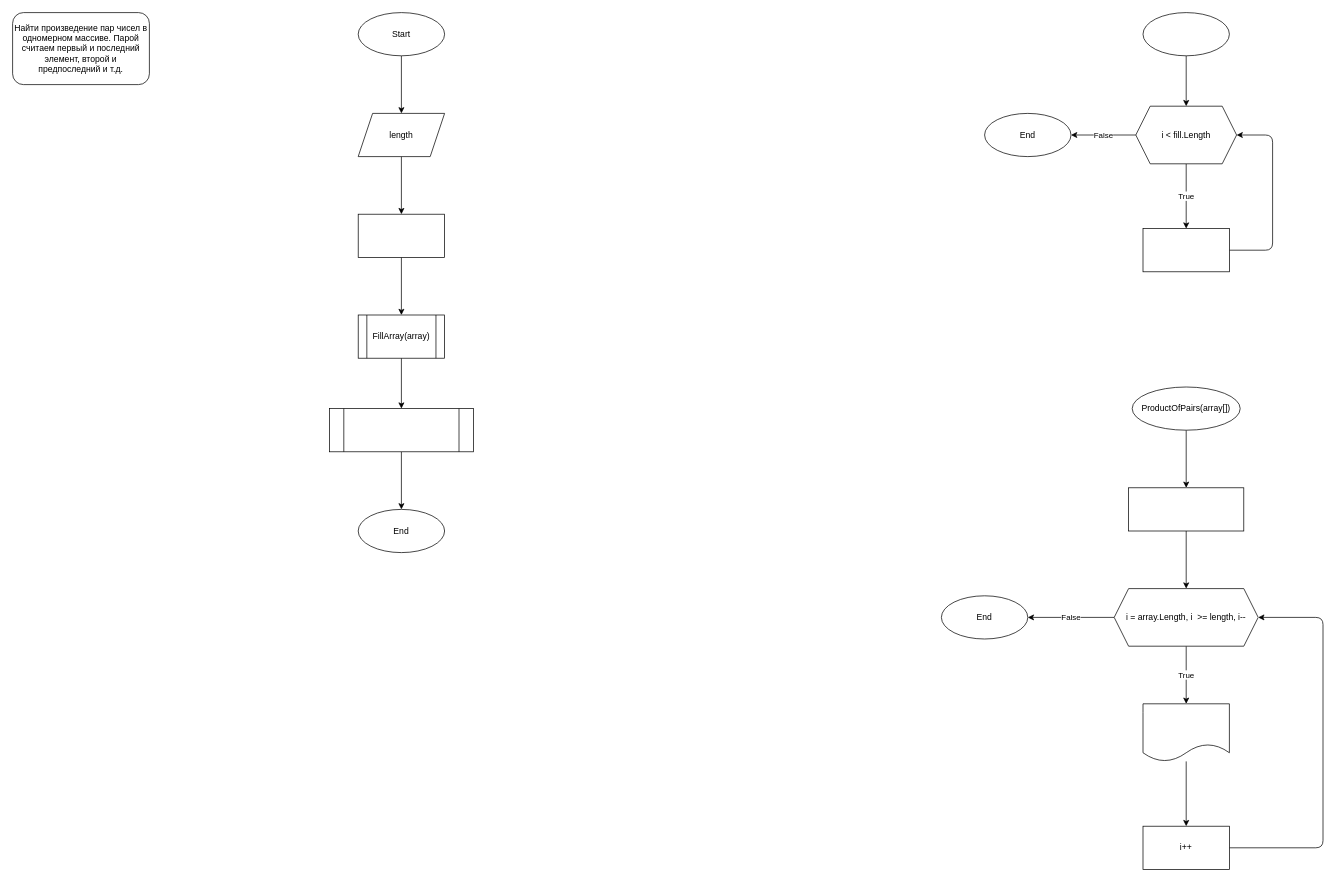
This 1341x882 diagram has some shape labels left out. The shapes that lost their labels are listed below. From the top down, each one's centre as x and y in pixels, then its label:
At point (1185, 34): "FillArray(fill[])".
At point (401, 235): "array[length]".
At point (1185, 250): "fill[i] = randim(1< 100)".
At point (401, 430): "ProductOfPairs(array)".
At point (1186, 509): "length = array.Length / 2 j = 0".
At point (1185, 732): "Print array[j] * array[j]".
